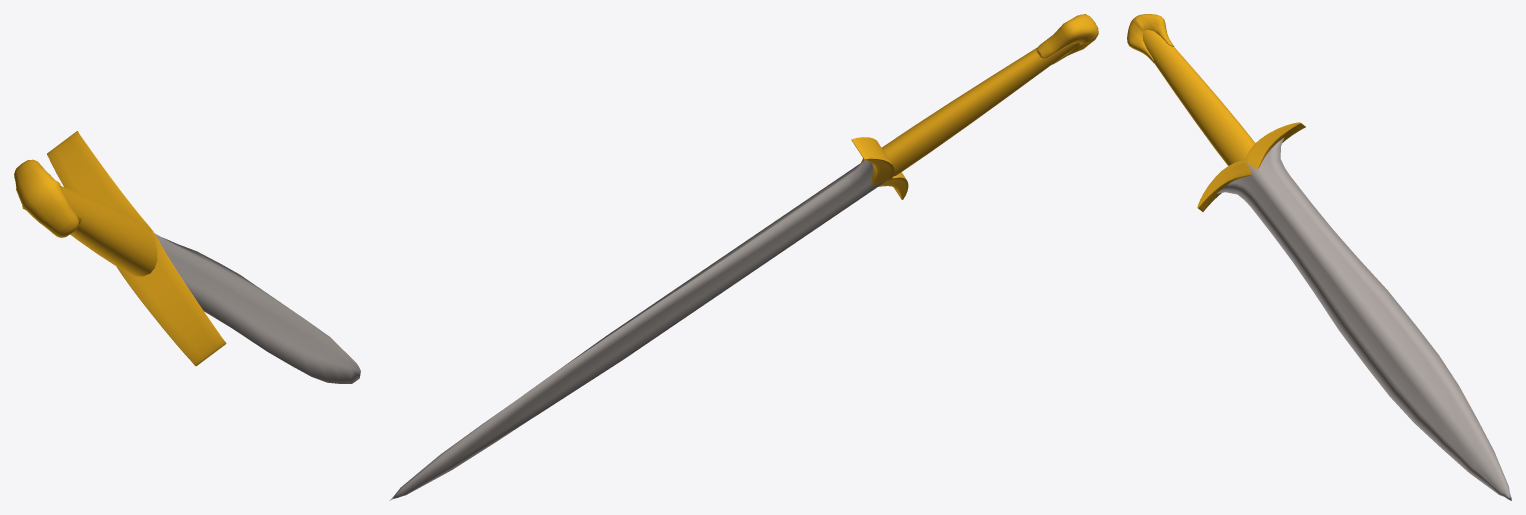
Rendered from sword.glb.
3 views of the same model, side by side, from view 1: azimuth 30°, elevation 25°; view 2: azimuth 150°, elevation 25°; view 3: azimuth 270°, elevation 25° (orthographic). The views are drawn at different scales.
Visible parts, largest first — view 1: Lame_Plane, Garde_Plane.002, Manche_Circle, Pommeau_Plane.001; view 2: Lame_Plane, Manche_Circle, Pommeau_Plane.001, Garde_Plane.002; view 3: Lame_Plane, Manche_Circle, Garde_Plane.002, Pommeau_Plane.001.
Boxes of the visible parts, box(x1,y1,x2,y2) form: Lame_Plane: box(152, 233, 360, 383); Garde_Plane.002: box(47, 131, 226, 366); Manche_Circle: box(61, 186, 157, 276); Pommeau_Plane.001: box(14, 159, 81, 237); Lame_Plane: box(389, 160, 885, 500); Manche_Circle: box(882, 43, 1079, 176); Pommeau_Plane.001: box(1036, 14, 1098, 64); Garde_Plane.002: box(851, 137, 908, 199); Lame_Plane: box(1217, 137, 1511, 500); Manche_Circle: box(1142, 29, 1255, 165); Garde_Plane.002: box(1197, 122, 1305, 211); Pommeau_Plane.001: box(1127, 14, 1174, 62).
Size of the model in its own units: 5.16 by 4.45 by 4.86.
